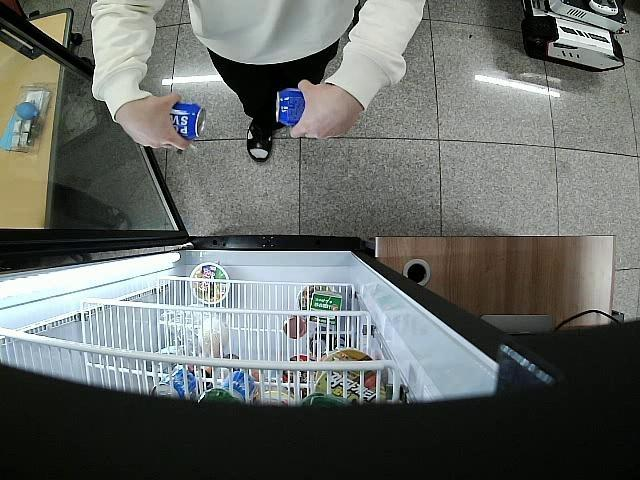13_pocariSweat: (168, 102, 205, 143), (275, 89, 304, 126)
